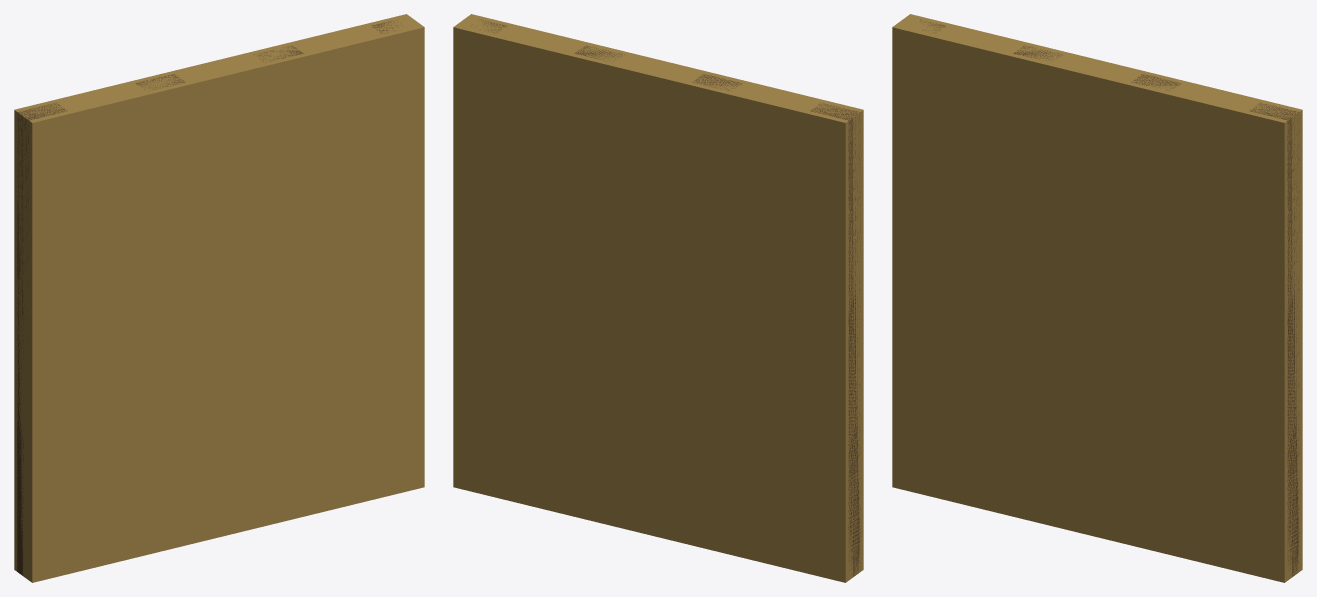
Rendered from module_wall_semi.glb.
3 views of the same model, side by side, from view 1: azimuth 30°, elevation 25°; view 2: azimuth 150°, elevation 25°; view 3: azimuth 330°, elevation 25° (orthographic).
Visible parts, largest first — view 1: body; view 2: body; view 3: body.
Part boxes in pixels (x1,y1,x2,y2): body: [14, 14, 424, 582]; body: [453, 14, 863, 582]; body: [892, 14, 1302, 582].
Bounding box in the file's own units: 2.5 × 2.8 × 0.2.
